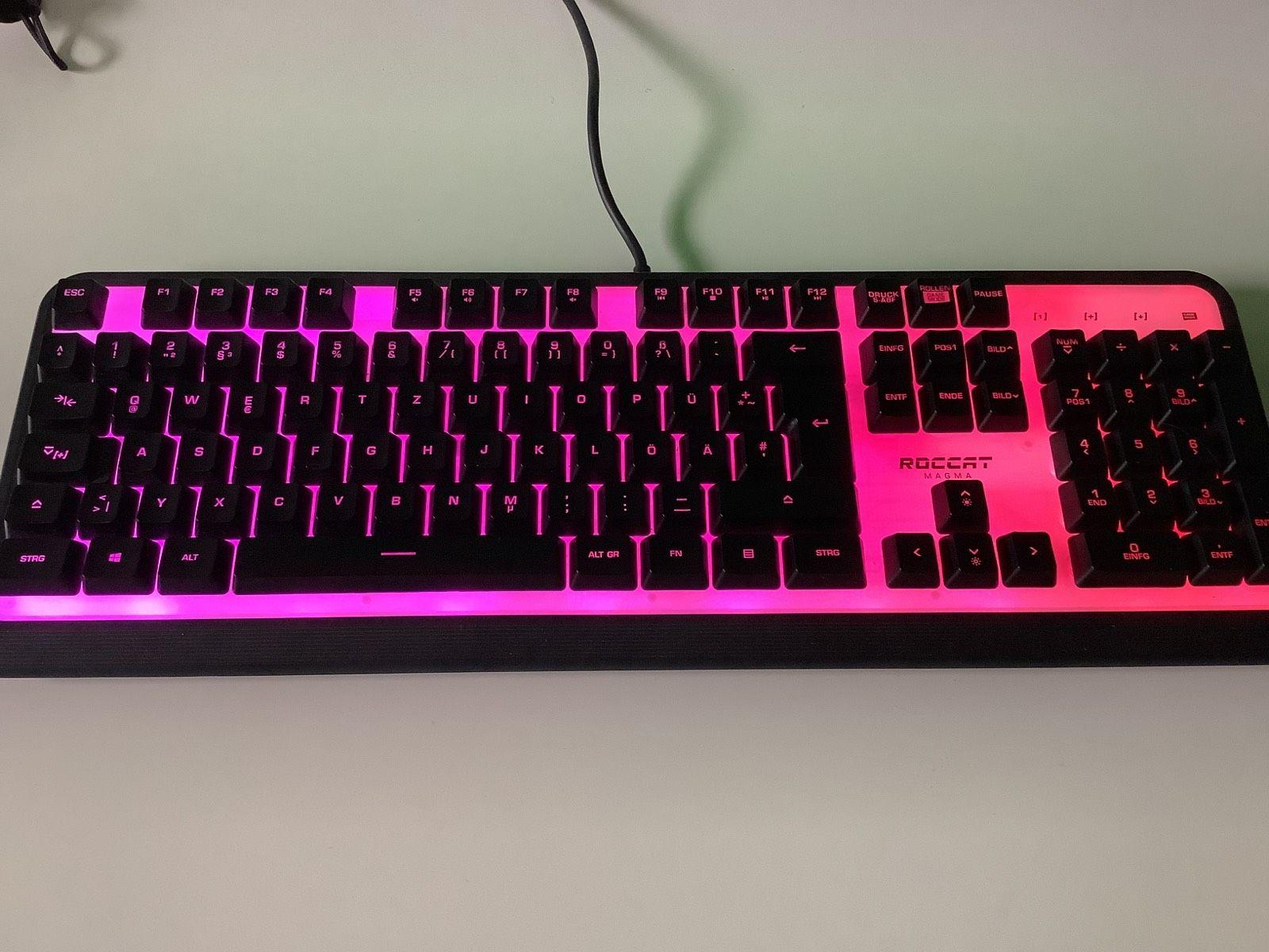0: (584, 326, 630, 377)
1: (90, 328, 131, 370)
2: (146, 328, 188, 371)
3: (201, 327, 244, 374)
4: (257, 328, 301, 374)
5: (313, 328, 356, 373)
6: (368, 328, 415, 374)
7: (424, 327, 470, 374)
8: (477, 327, 523, 377)
9: (531, 327, 577, 378)
a: (115, 429, 160, 474)
accent: (693, 326, 735, 377)
ae: (682, 428, 728, 474)
alt-left: (152, 533, 226, 593)
altgr-right: (566, 531, 636, 587)
b: (369, 480, 423, 528)
c: (252, 480, 300, 524)
caret: (37, 330, 77, 369)
comma: (540, 479, 590, 530)
d: (230, 428, 276, 472)
del: (746, 328, 840, 374)
e: (220, 379, 271, 424)
enter: (771, 377, 849, 477)
f: (289, 429, 333, 472)
g: (345, 428, 393, 472)
h: (402, 428, 450, 474)
hash: (737, 428, 784, 472)
i: (502, 381, 550, 423)
j: (458, 428, 506, 473)
k: (514, 428, 562, 475)
keyboard: (2, 263, 1267, 676)
l: (570, 428, 618, 475)
less: (74, 481, 119, 524)
m: (482, 479, 535, 529)
minus: (654, 478, 704, 528)
n: (427, 480, 477, 528)
o: (554, 381, 605, 423)
oe: (625, 428, 674, 474)
p: (611, 380, 658, 424)
plus: (719, 378, 767, 425)
point: (597, 479, 648, 527)
q: (107, 378, 156, 426)
r: (279, 380, 325, 420)
s: (173, 428, 217, 474)
shift-left: (2, 481, 65, 526)
shift-lock: (17, 429, 90, 474)
shift-right: (705, 478, 857, 523)
space: (224, 532, 565, 589)
ss: (639, 327, 684, 378)
strg-left: (1, 533, 69, 588)
strg-right: (782, 528, 866, 585)
t: (335, 379, 383, 424)
tab: (27, 378, 97, 420)
u: (445, 380, 497, 426)
ue: (665, 379, 713, 424)
v: (310, 480, 364, 524)
w: (167, 379, 210, 420)
x: (192, 481, 238, 523)
y: (133, 480, 178, 523)
z: (390, 379, 439, 425)
